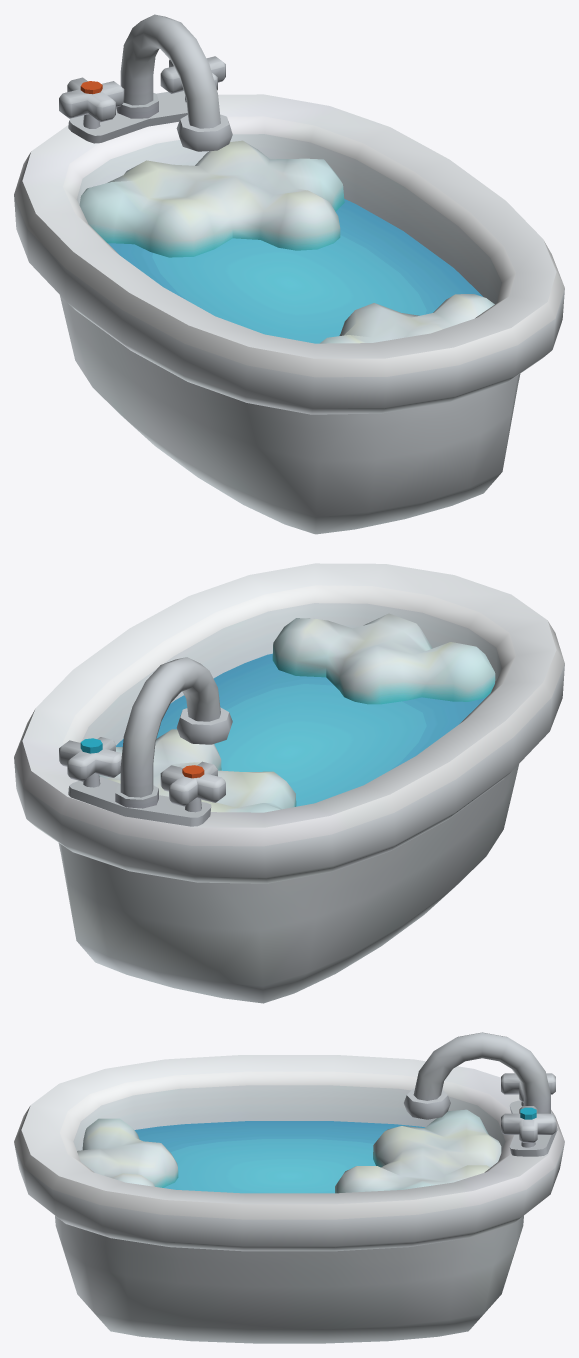
File: bath.glb
3 renders of one model, top to bottom at view 1: azimuth 30°, elevation 25°; view 2: azimuth 150°, elevation 25°; view 3: azimuth 270°, elevation 25°, orthographic. The views are drawn at different scales.
Parts seen in each view (by area): view 1: bath; view 2: bath; view 3: bath.
Part boxes in pixels (x1,y1,x2,y2): bath: (14, 14, 564, 534); bath: (14, 563, 564, 1003); bath: (14, 1032, 564, 1343).
Bounding box in the file's own units: 2 × 1.61 × 3.
Materials: 1 (1 with a texture image).
